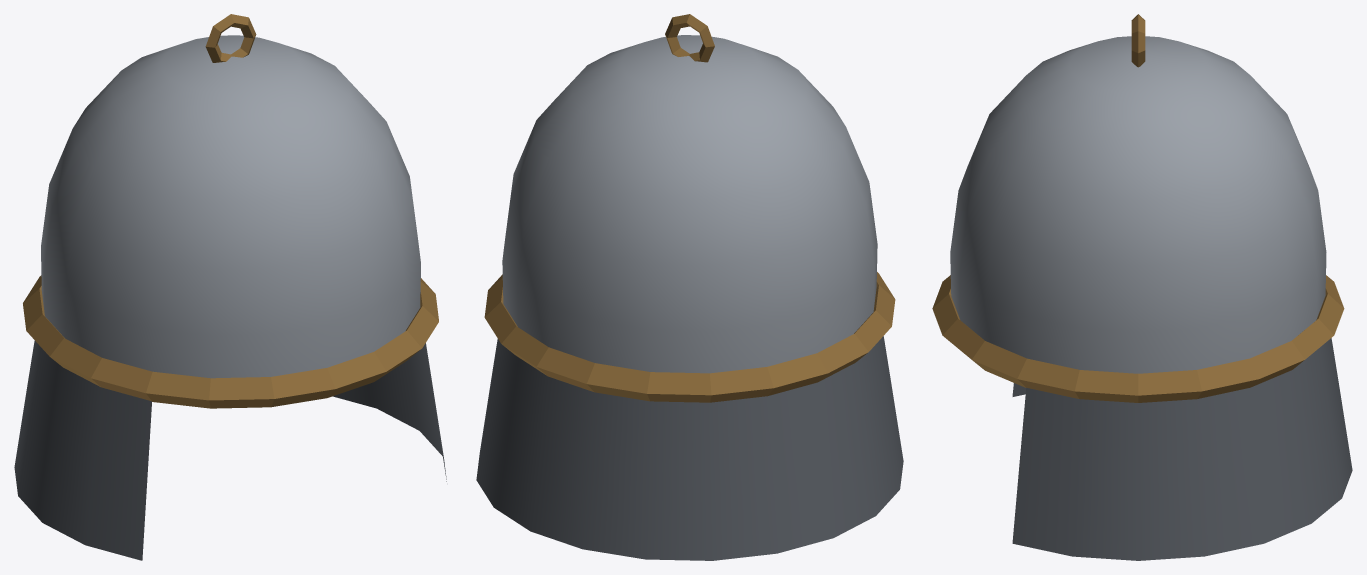
The model's file is Domed_Helm.gltf.
3 renders of one model, left to right at view 1: azimuth 30°, elevation 25°; view 2: azimuth 150°, elevation 25°; view 3: azimuth 270°, elevation 25°, orthographic.
Visible parts, largest first — view 1: DomedBowl; view 2: DomedBowl; view 3: DomedBowl.
Part boxes in pixels (<box>): DomedBowl: <box>14,14,446,560</box>; DomedBowl: <box>476,14,903,560</box>; DomedBowl: <box>932,14,1352,560</box>.
Bounding box in the file's own units: 0.312 × 0.366 × 0.306.
